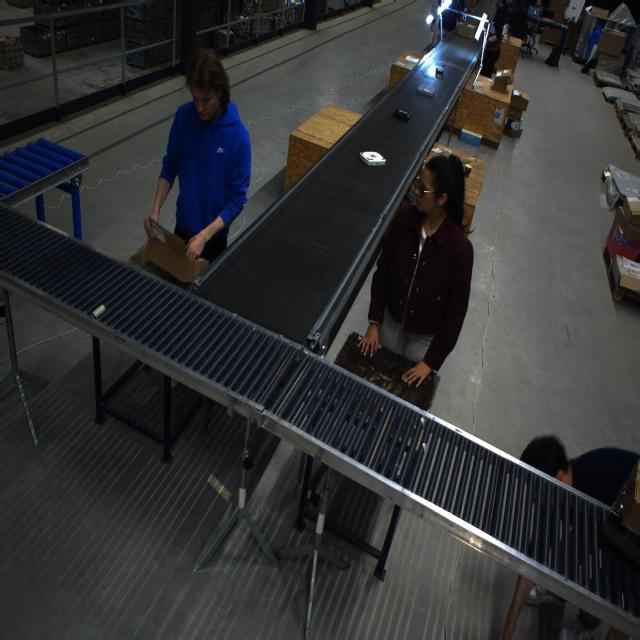box: (614, 202, 640, 244), (597, 28, 625, 57), (508, 86, 529, 115), (541, 25, 563, 46), (491, 70, 511, 93), (503, 116, 523, 139), (455, 20, 477, 40), (588, 7, 609, 19)
product: (353, 148, 392, 172), (416, 83, 435, 98), (392, 108, 411, 122), (435, 66, 443, 77)
